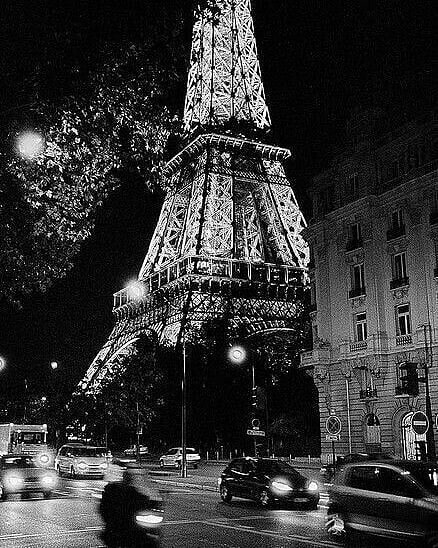building: (84, 1, 301, 427), (316, 136, 438, 467)
car: (321, 461, 438, 548), (218, 445, 322, 514), (53, 441, 108, 480), (1, 461, 55, 500)
motorcycle: (89, 498, 171, 547)
tree: (1, 46, 166, 341)
